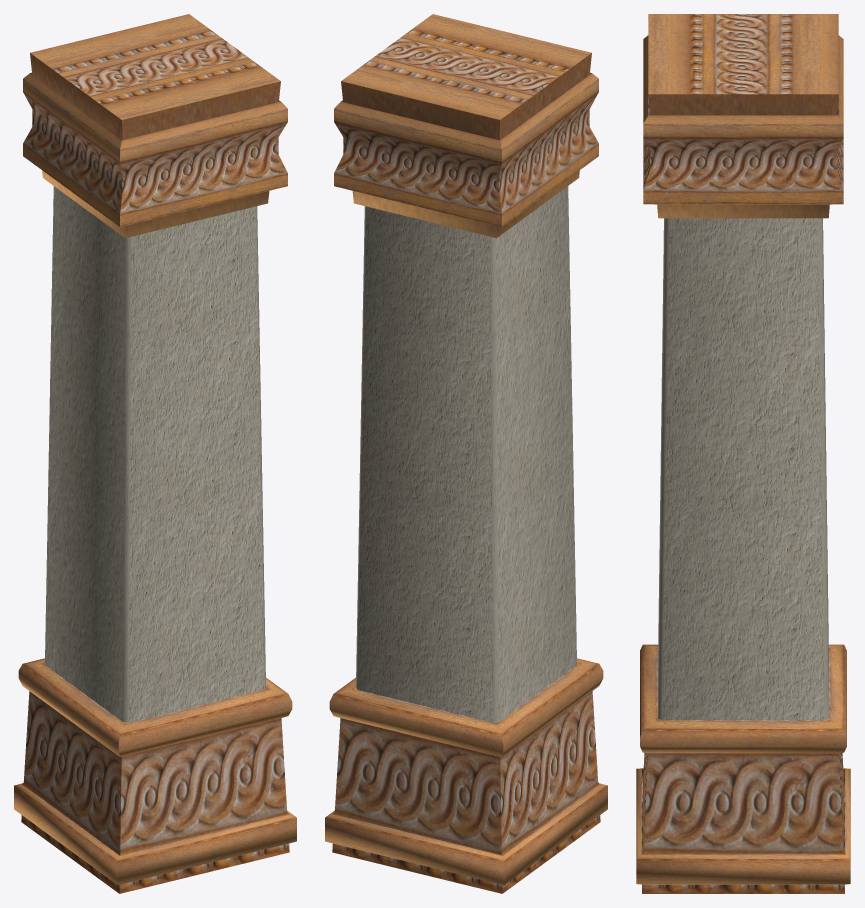
Rendered from poll_140119.dae.
The picture shows the model from 3 angles, left to right: view 1: azimuth 30°, elevation 25°; view 2: azimuth 150°, elevation 25°; view 3: azimuth 270°, elevation 25°; orthographic projection. The views are drawn at different scales.
Visible parts, largest first — view 1: poll_140119; view 2: poll_140119; view 3: poll_140119.
Boxes of the visible parts, bbox=[...] form: poll_140119: bbox=[14, 14, 296, 893]; poll_140119: bbox=[325, 14, 607, 893]; poll_140119: bbox=[636, 14, 850, 893].
Bounding box in the file's own units: 981 × 4027 × 981.
